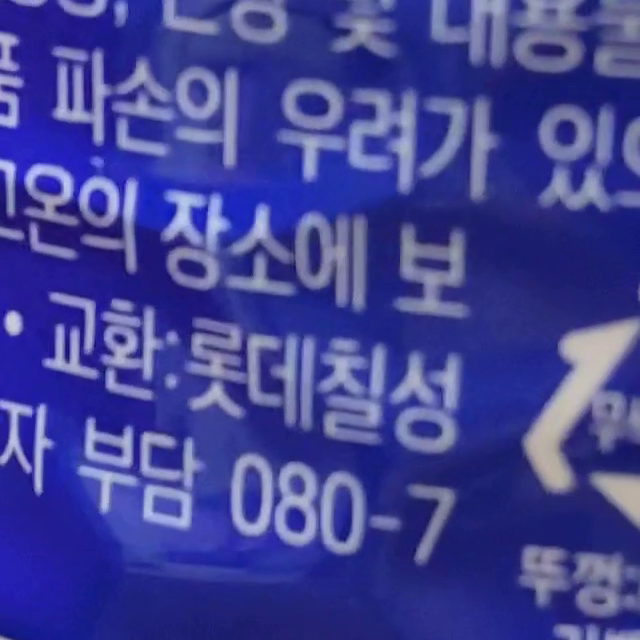ColorlessPet: (520, 282, 640, 539)
